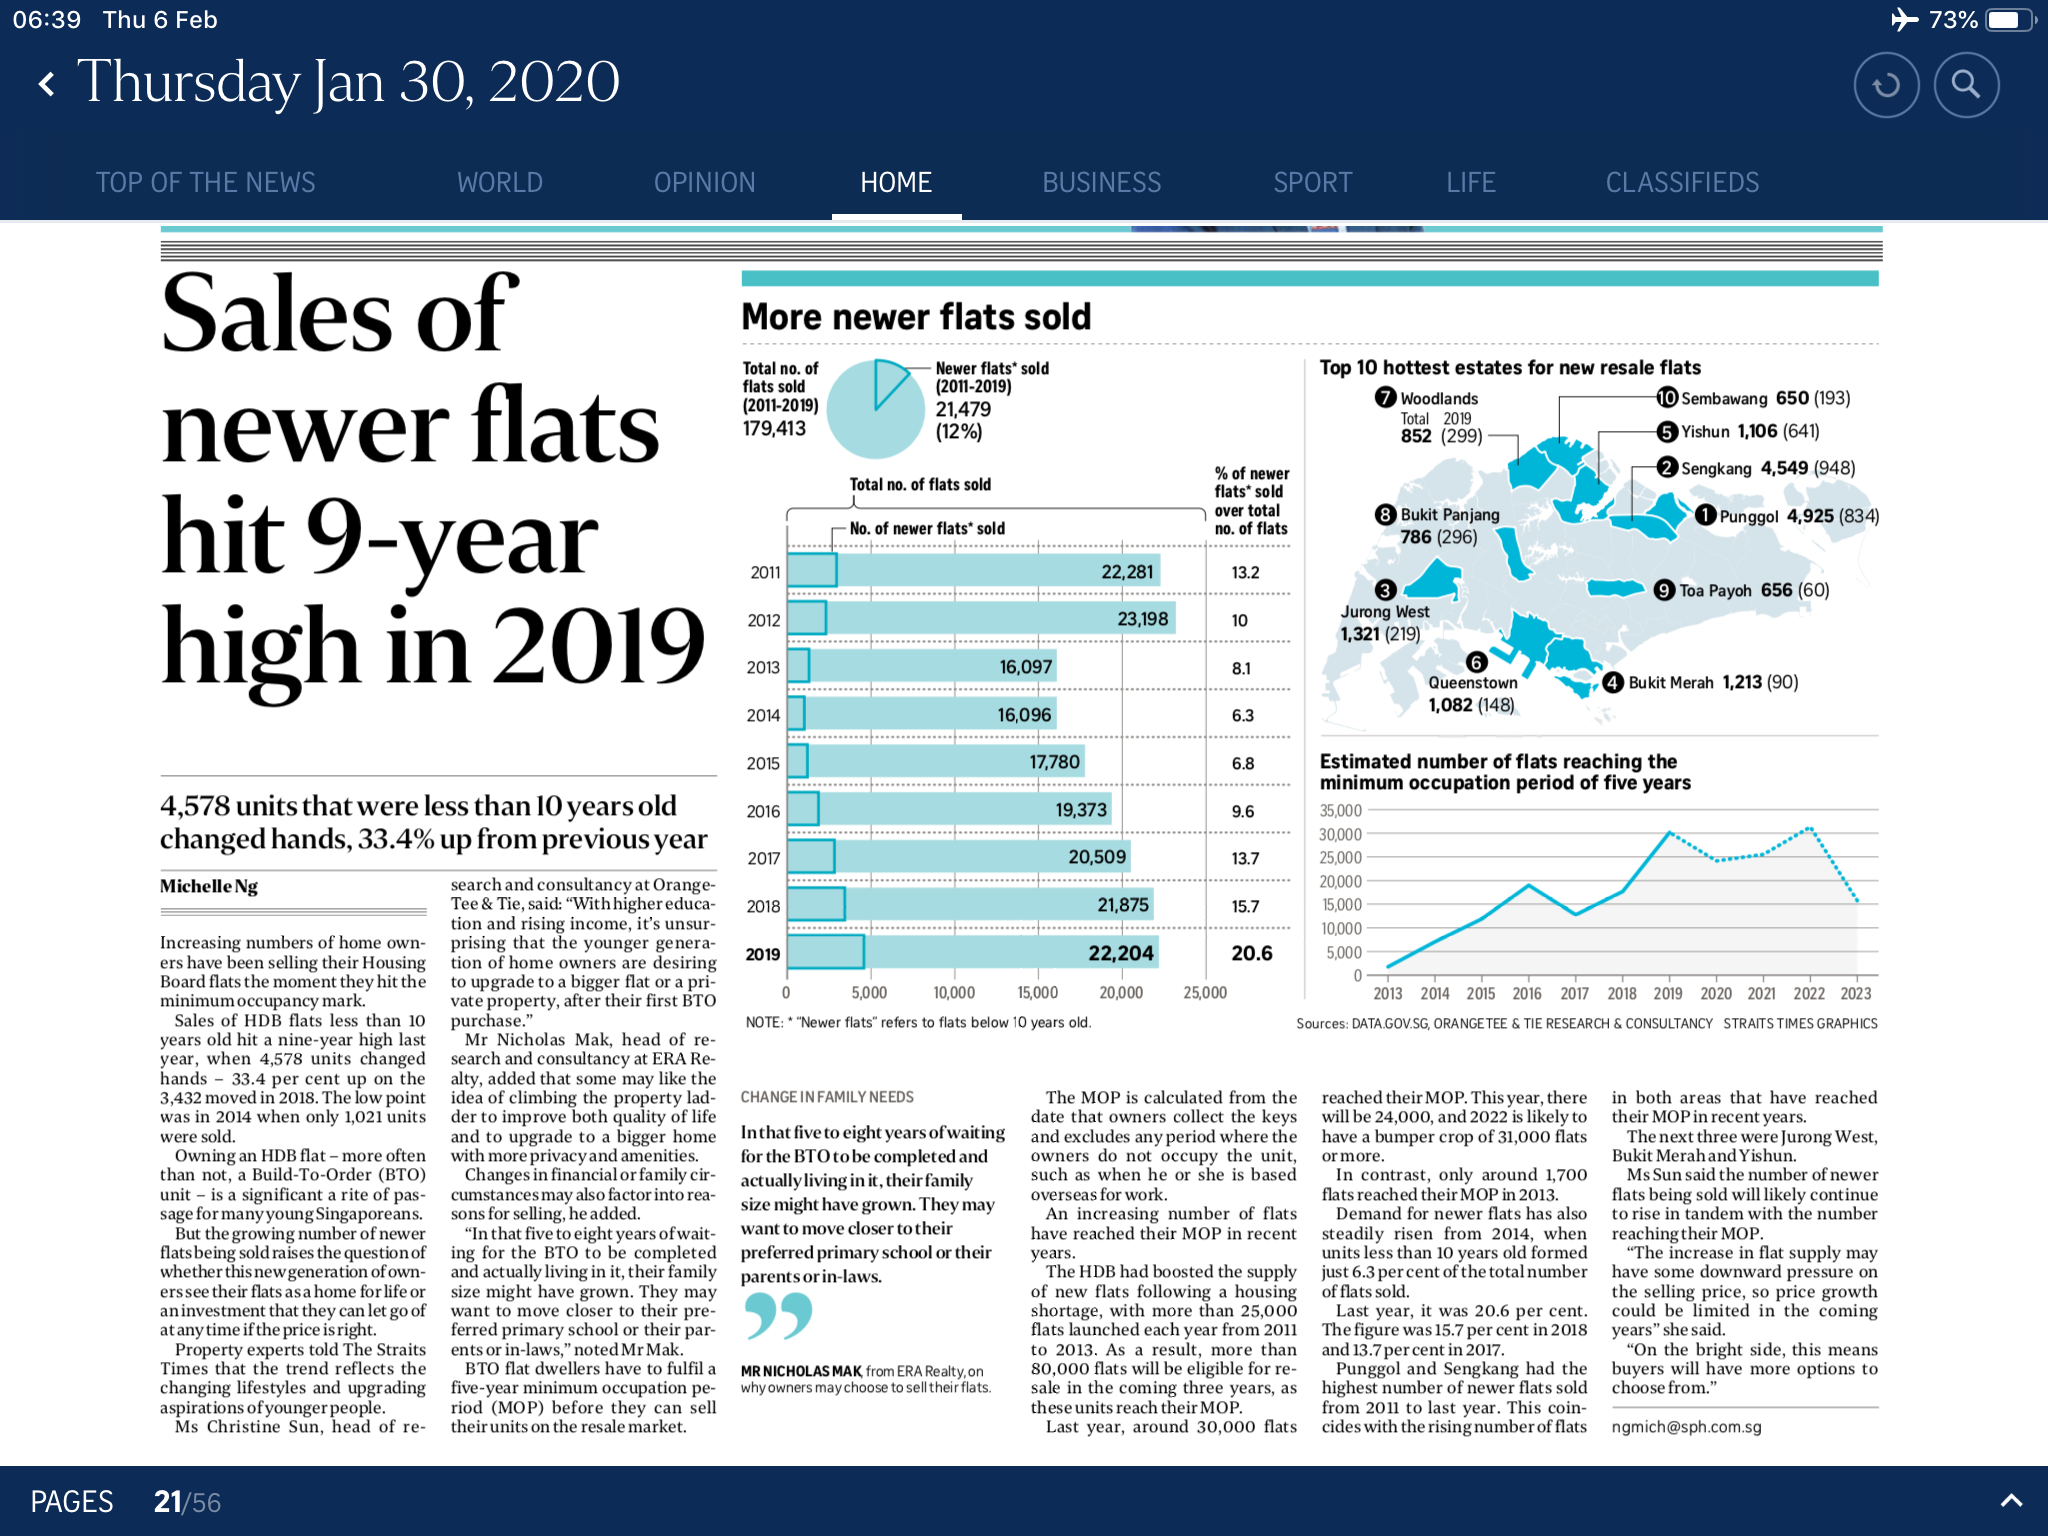Byline: (156, 873, 263, 904)
Headline: (168, 269, 706, 707)
Illustration: (737, 1013, 1884, 1036)
Image: (731, 298, 1892, 1007)
Text: (448, 878, 716, 1441), (156, 934, 427, 1441), (1030, 1087, 1301, 1441), (1321, 1087, 1590, 1436), (735, 1087, 1009, 1396), (1608, 1091, 1879, 1392)
